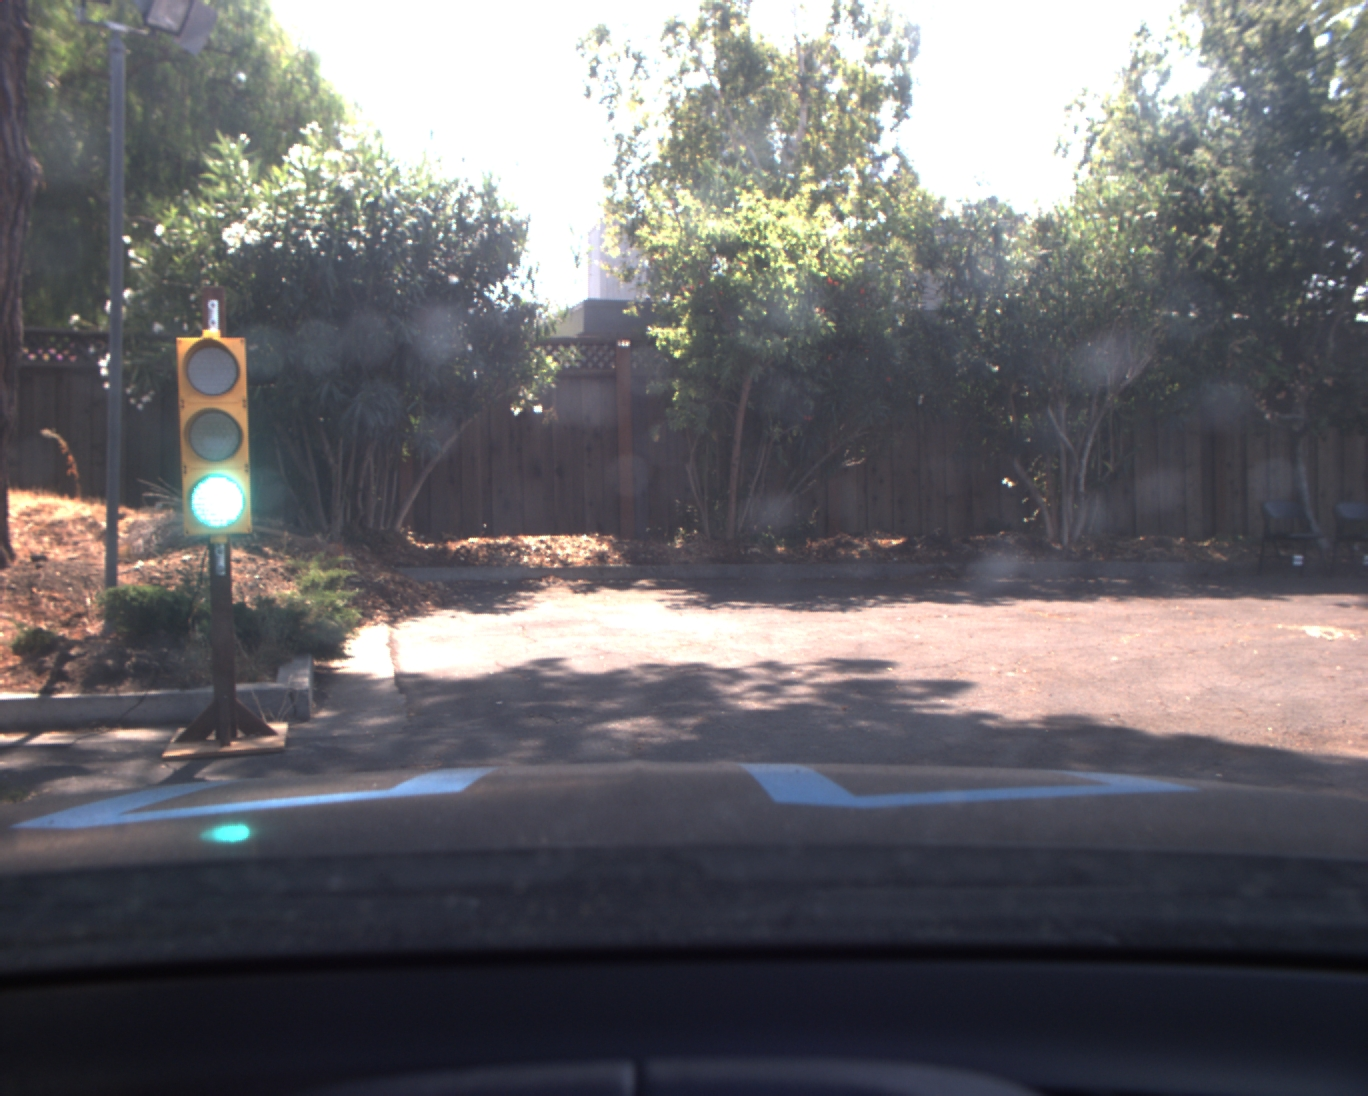green: (171, 335, 267, 547)
